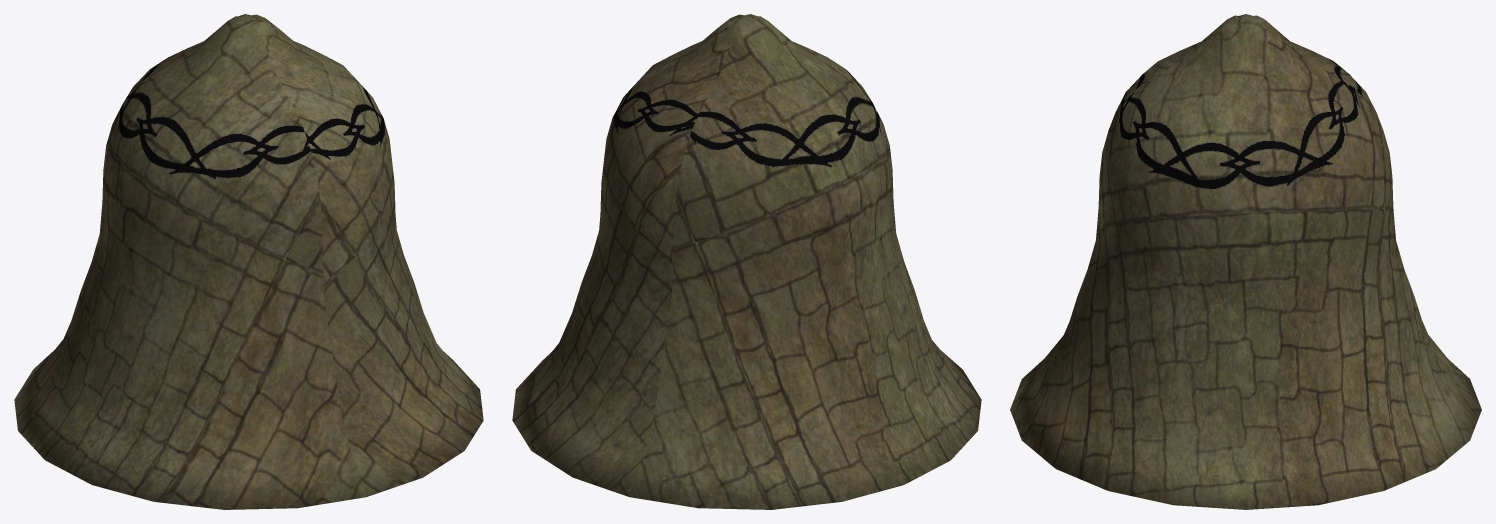
The model's file is Temple_Bell.fbx.
The picture shows the model from 3 angles, left to right: view 1: azimuth 30°, elevation 25°; view 2: azimuth 150°, elevation 25°; view 3: azimuth 270°, elevation 25°; orthographic projection.
Parts seen in each view (by area): view 1: Circle; view 2: Circle; view 3: Circle.
Part boxes in pixels (x1=…): Circle: x1=14, y1=14, x2=483, y2=509; Circle: x1=512, y1=14, x2=981, y2=509; Circle: x1=1010, y1=14, x2=1481, y2=509.
Bounding box in the file's own units: 3.21 × 2.96 × 3.21.
